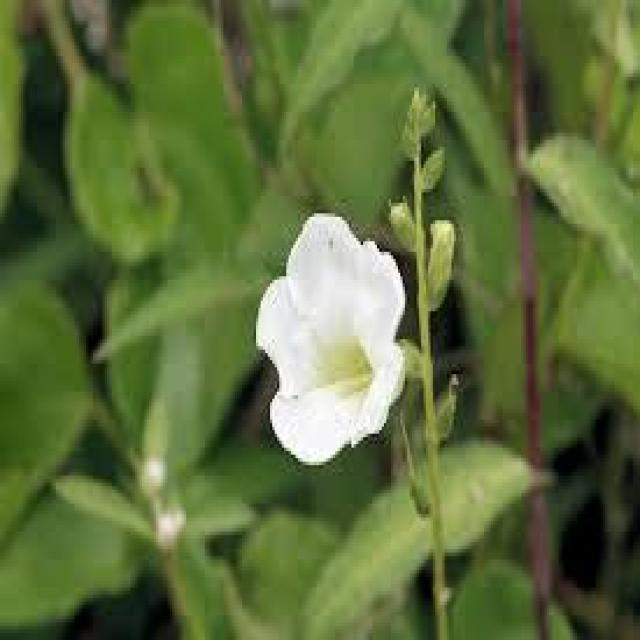organic waste: (250, 201, 413, 463)
